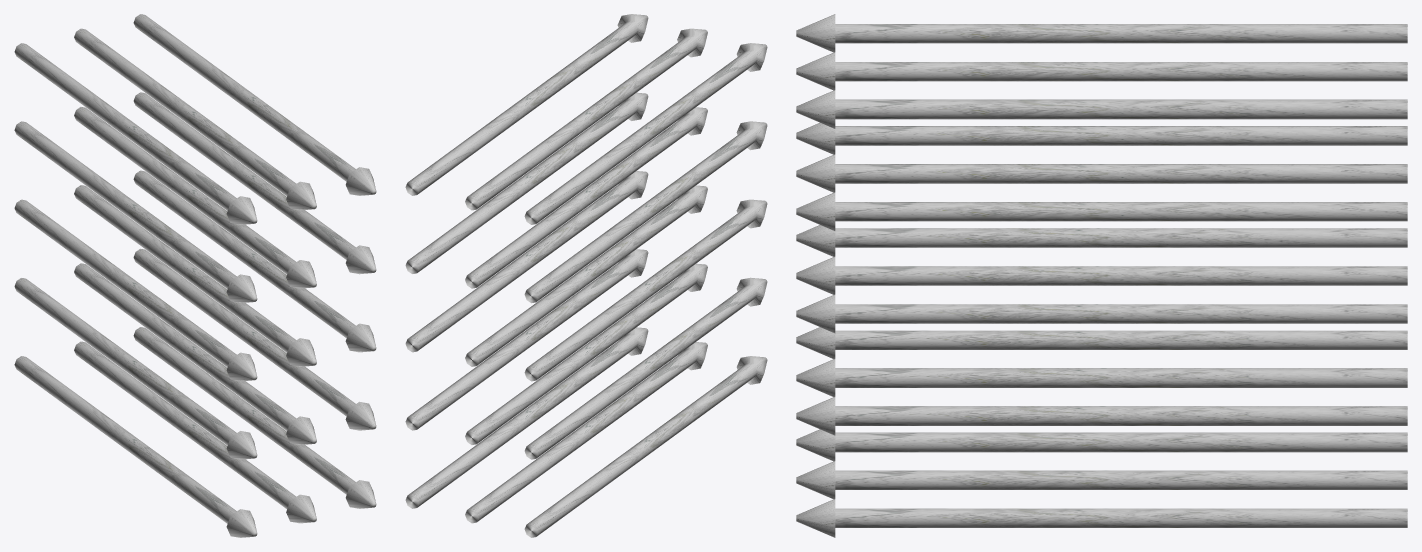
Rendered from booby-trap.fbx.
The picture shows the model from 3 angles, left to right: view 1: azimuth 30°, elevation 25°; view 2: azimuth 150°, elevation 25°; view 3: azimuth 270°, elevation 25°; orthographic projection. The views are drawn at different scales.
Parts seen in each view (by area): view 1: booby-trap; view 2: booby-trap; view 3: booby-trap.
Boxes of the visible parts, x1,y1,x2,y2 form: booby-trap: [14, 14, 376, 537]; booby-trap: [405, 14, 767, 537]; booby-trap: [796, 14, 1407, 537].
Size of the model in its own units: 405 by 903 by 1119.
